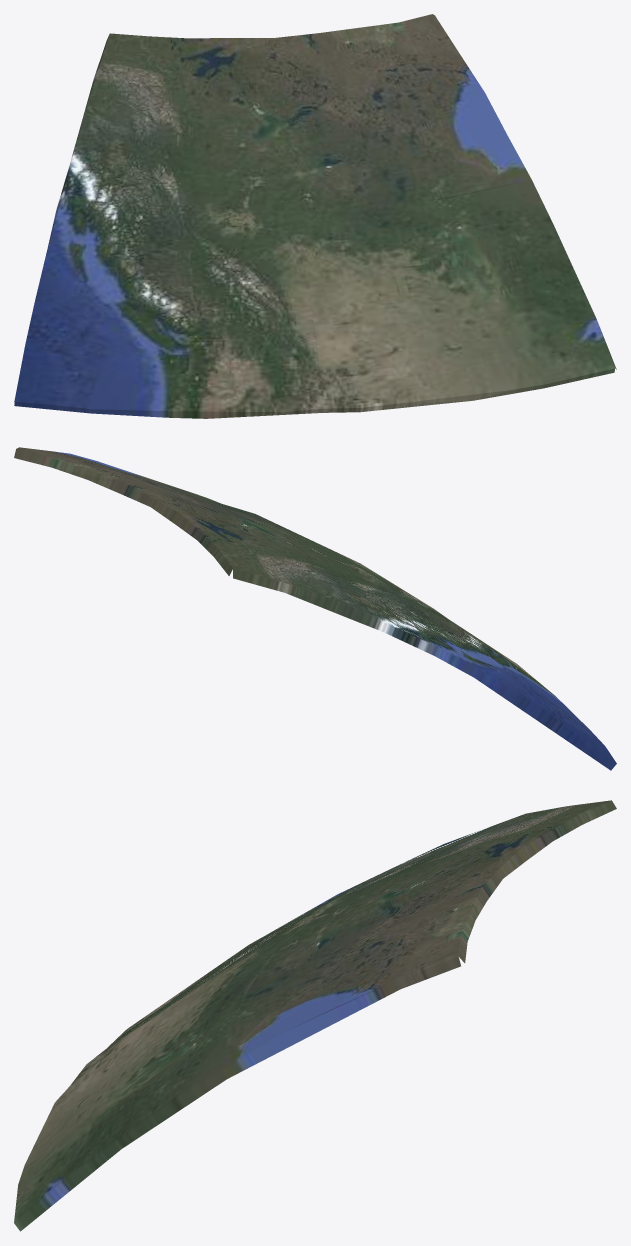
The picture shows the model from 3 angles, top to bottom: view 1: azimuth 30°, elevation 25°; view 2: azimuth 150°, elevation 25°; view 3: azimuth 270°, elevation 25°; orthographic projection. The views are drawn at different scales.
Bounding box in the file's own units: 3230407 × 1445524 × 2826862.
Materials: 1 (1 with a texture image).
